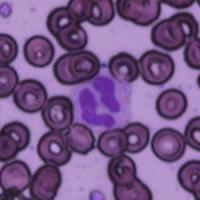N: (70, 70, 132, 134)
